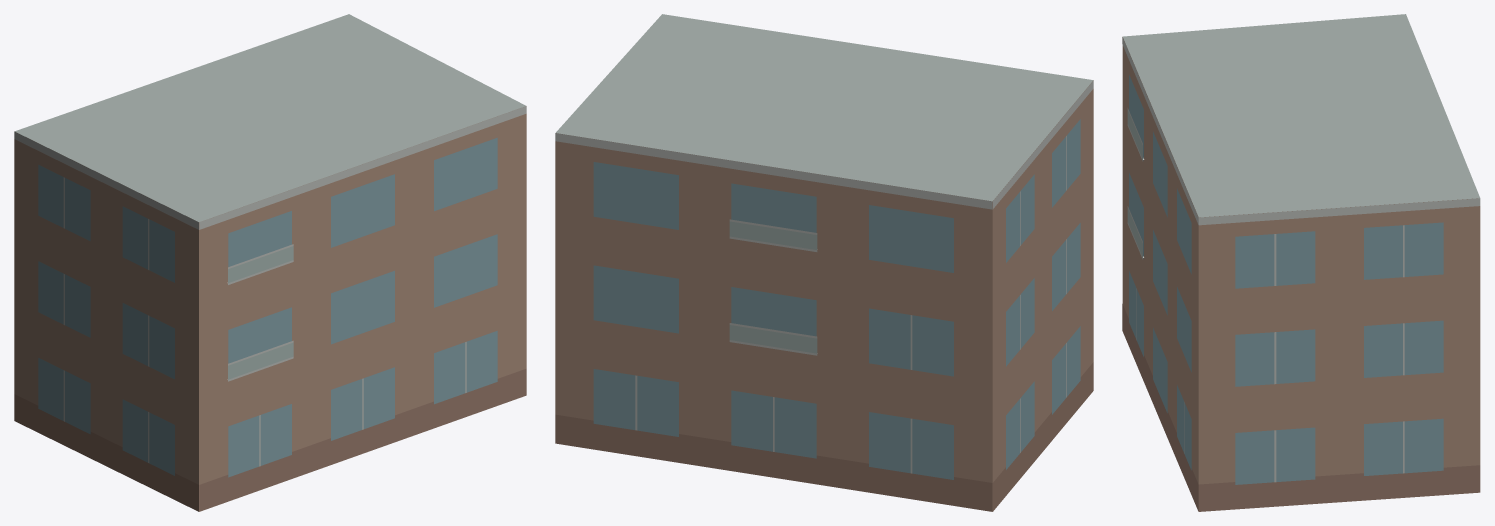
File: survey-upis-32621903.glb
3 renders of one model, left to right at view 1: azimuth 30°, elevation 25°; view 2: azimuth 150°, elevation 25°; view 3: azimuth 270°, elevation 25°, orthographic. The views are drawn at different scales.
Visible parts, largest first — view 1: survey-upis-32621903.tmp; view 2: survey-upis-32621903.tmp; view 3: survey-upis-32621903.tmp.
Boxes of the visible parts, <box> form: survey-upis-32621903.tmp: <box>14,14,526,511</box>; survey-upis-32621903.tmp: <box>555,14,1093,511</box>; survey-upis-32621903.tmp: <box>1122,14,1480,511</box>.
Size of the model in its own units: 13.57 by 9.15 by 10.09.
